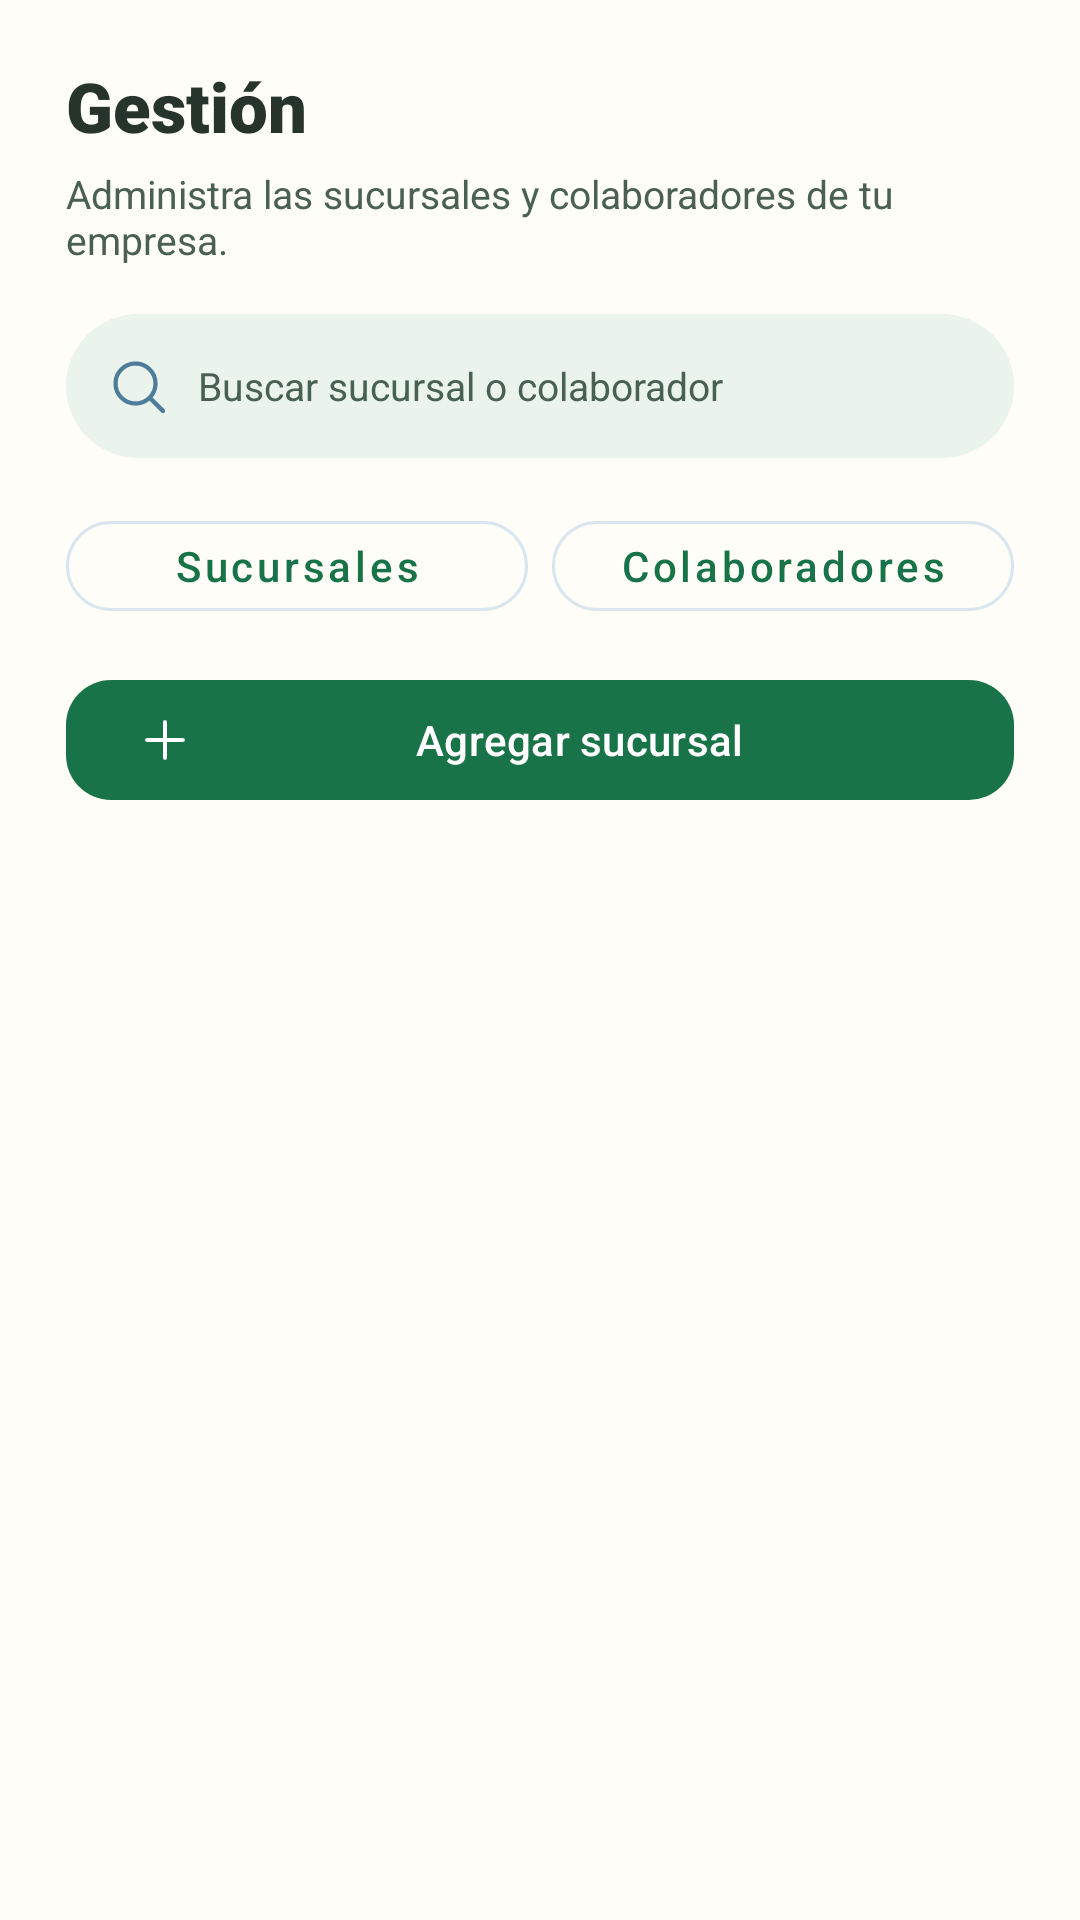

Icons on this 1080x1920 Android screen, each with the point to tap as (x,y):
search simple: (139,387)
